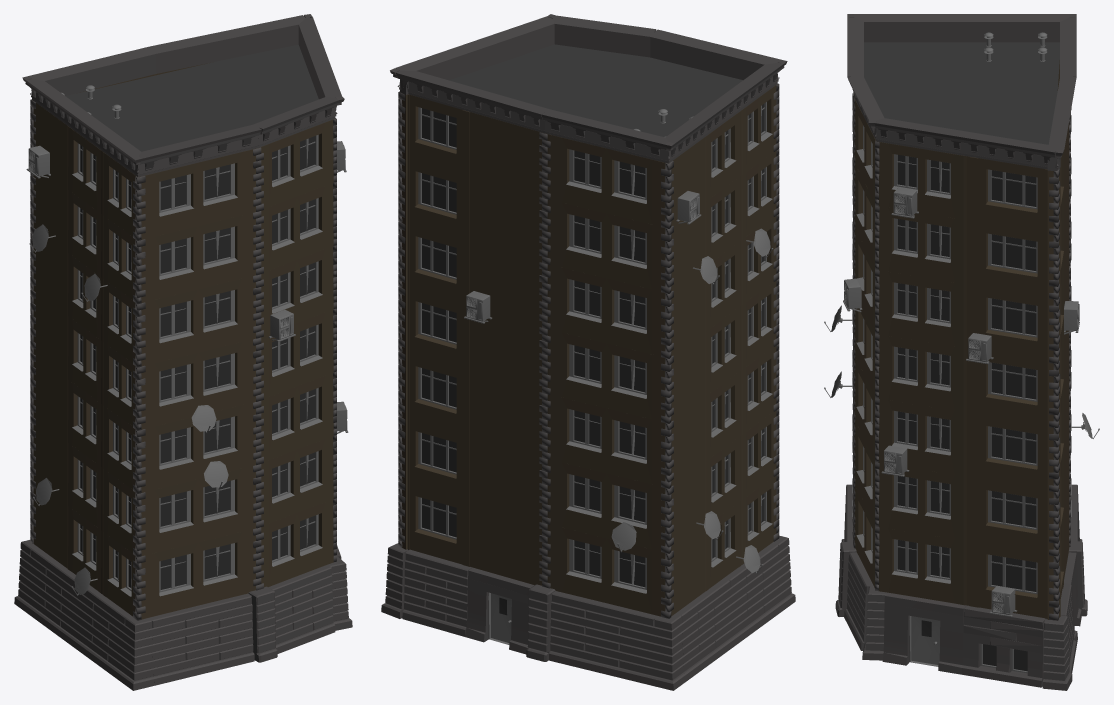
3 views of the same model, side by side, from view 1: azimuth 30°, elevation 25°; view 2: azimuth 150°, elevation 25°; view 3: azimuth 270°, elevation 25° (orthographic). The views are drawn at different scales.
Parts seen in each view (by area): view 1: Plane, middle_floor_wall_02.151, middle_floor_wall_02.149, middle_floor_wall_02.150, middle_floor_wall_02.145, ground_floor_wall_02.033, middle_floor_wall_02.148, middle_floor_wall_02.146, middle_floor_wall_02.147, middle_floor_wall_02.137, middle_floor_wall_02.136, middle_floor_wall_02.132 (+60 smaller); view 2: Plane, middle_floor_wall_02.144, middle_floor_wall_02.143, middle_floor_wall_02.142, middle_floor_wall_02.140, middle_floor_wall_02.141, ground_floor_wall_02.032, middle_floor_wall_02.138, middle_floor_wall_02.139, ground_floor_wall_02.028, middle_floor_wall_01.051, middle_floor_wall_01.050 (+59 smaller); view 3: Plane, middle_floor_wall_02.127, middle_floor_wall_02.128, middle_floor_wall_02.124, ground_floor_wall_03.006, middle_floor_wall_02.129, ground_floor_wall_01.011, middle_floor_wall_02.125, middle_floor_wall_03.036, middle_floor_wall_03.031, middle_floor_wall_03.032, middle_floor_wall_03.035 (+49 smaller).
Boxes of the visible parts, box(x1,y1,x2,y2) form: Plane: box(65, 44, 318, 151); middle_floor_wall_02.151: box(139, 148, 257, 239); middle_floor_wall_02.149: box(141, 276, 255, 366); middle_floor_wall_02.150: box(141, 213, 255, 302); middle_floor_wall_02.145: box(141, 529, 255, 619); ground_floor_wall_02.033: box(149, 593, 254, 685); middle_floor_wall_02.148: box(141, 339, 255, 429); middle_floor_wall_02.146: box(141, 466, 255, 555); middle_floor_wall_02.147: box(141, 402, 255, 492); middle_floor_wall_02.137: box(259, 119, 333, 208); middle_floor_wall_02.136: box(261, 183, 333, 272); middle_floor_wall_02.132: box(261, 436, 333, 525); Plane: box(449, 44, 742, 136); middle_floor_wall_02.144: box(546, 133, 665, 226); middle_floor_wall_02.143: box(547, 199, 665, 291); middle_floor_wall_02.142: box(547, 264, 665, 356); middle_floor_wall_02.140: box(547, 394, 665, 486); middle_floor_wall_02.141: box(547, 329, 665, 421); ground_floor_wall_02.032: box(549, 591, 657, 685); middle_floor_wall_02.138: box(547, 524, 665, 616); middle_floor_wall_02.139: box(547, 459, 665, 551); ground_floor_wall_02.028: box(402, 549, 472, 636); middle_floor_wall_01.051: box(472, 113, 544, 197); middle_floor_wall_01.050: box(472, 178, 541, 262); Plane: box(864, 42, 1059, 144); middle_floor_wall_02.127: box(877, 334, 966, 412); middle_floor_wall_02.128: box(877, 270, 966, 348); middle_floor_wall_02.124: box(877, 527, 966, 605); ground_floor_wall_03.006: box(962, 605, 1047, 687); middle_floor_wall_02.129: box(877, 206, 966, 284); ground_floor_wall_01.011: box(882, 592, 966, 674); middle_floor_wall_02.125: box(877, 463, 966, 541); middle_floor_wall_03.036: box(966, 156, 1060, 233); middle_floor_wall_03.031: box(966, 477, 1060, 554); middle_floor_wall_03.032: box(966, 413, 1060, 490); middle_floor_wall_03.035: box(966, 220, 1060, 297).
Size of the model in its own units: 1538 by 2524 by 1179.
